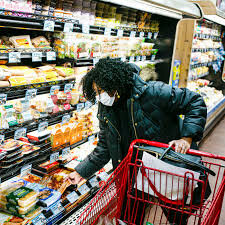with_basket: (95, 137, 224, 225)
with_mask: (88, 65, 124, 106)
